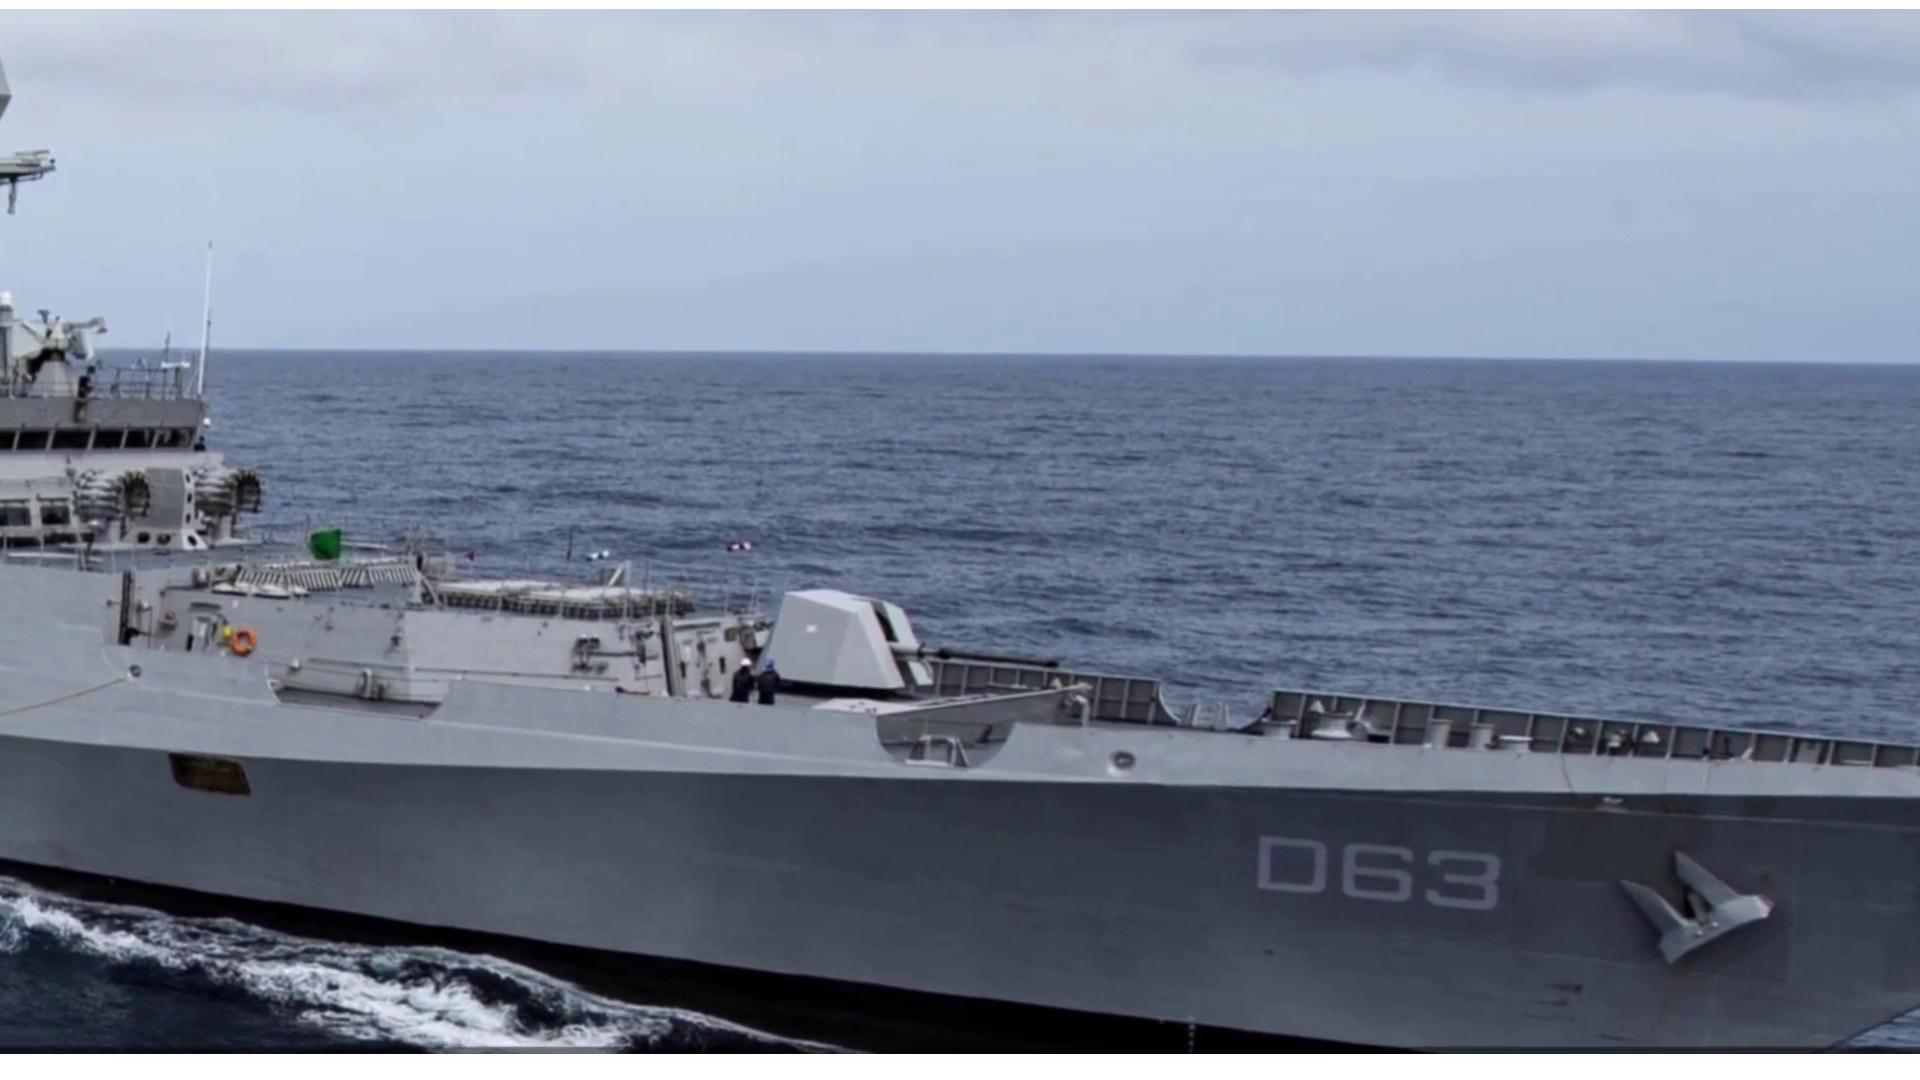OCR: (1238, 824, 1513, 917)
